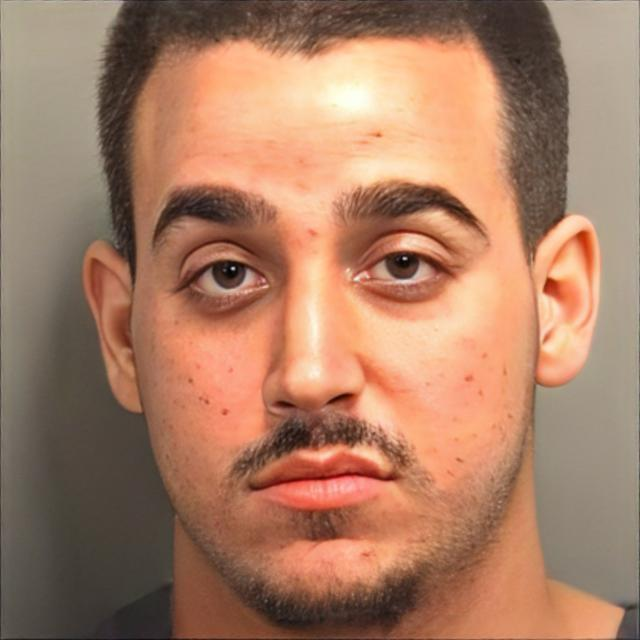neutral: (132, 23, 536, 624)
